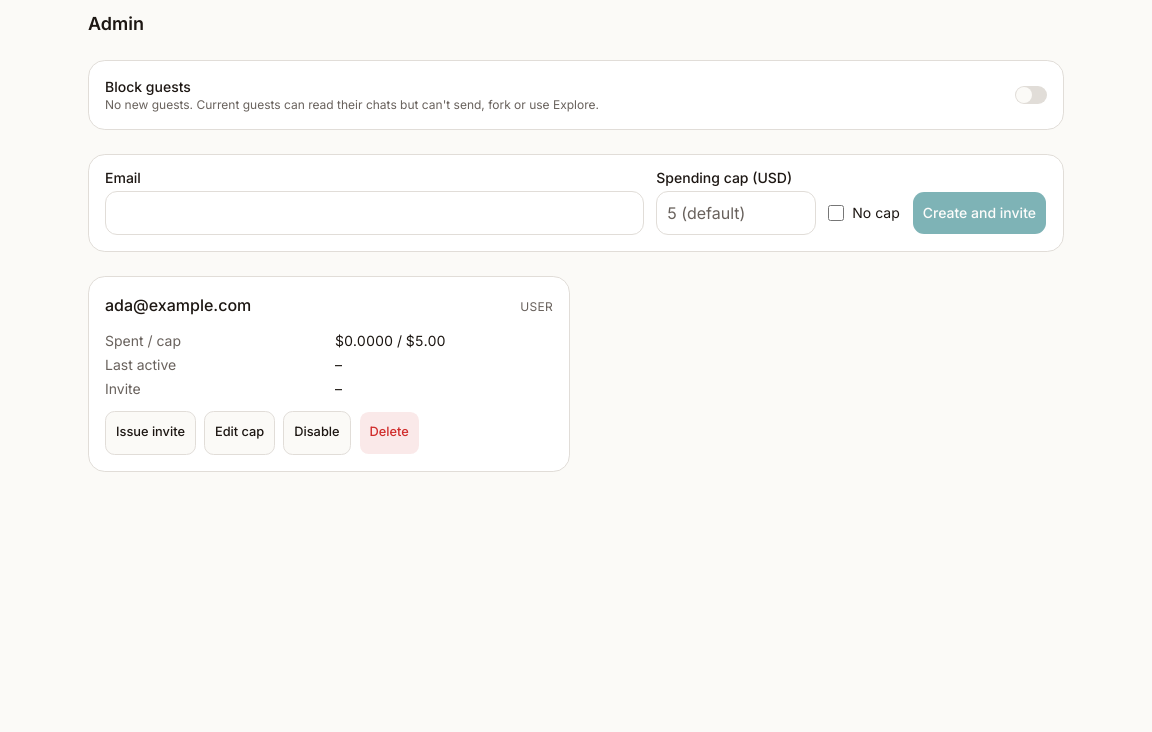
Test case: AdminConsole on a dead network › a refresh that rejects after a create keeps the invite and the list
The width and height of the screenshot is (1152, 732).
In the field labelled "Email": (375, 213) left=105, top=191, right=644, bottom=235, type "new@example.com"
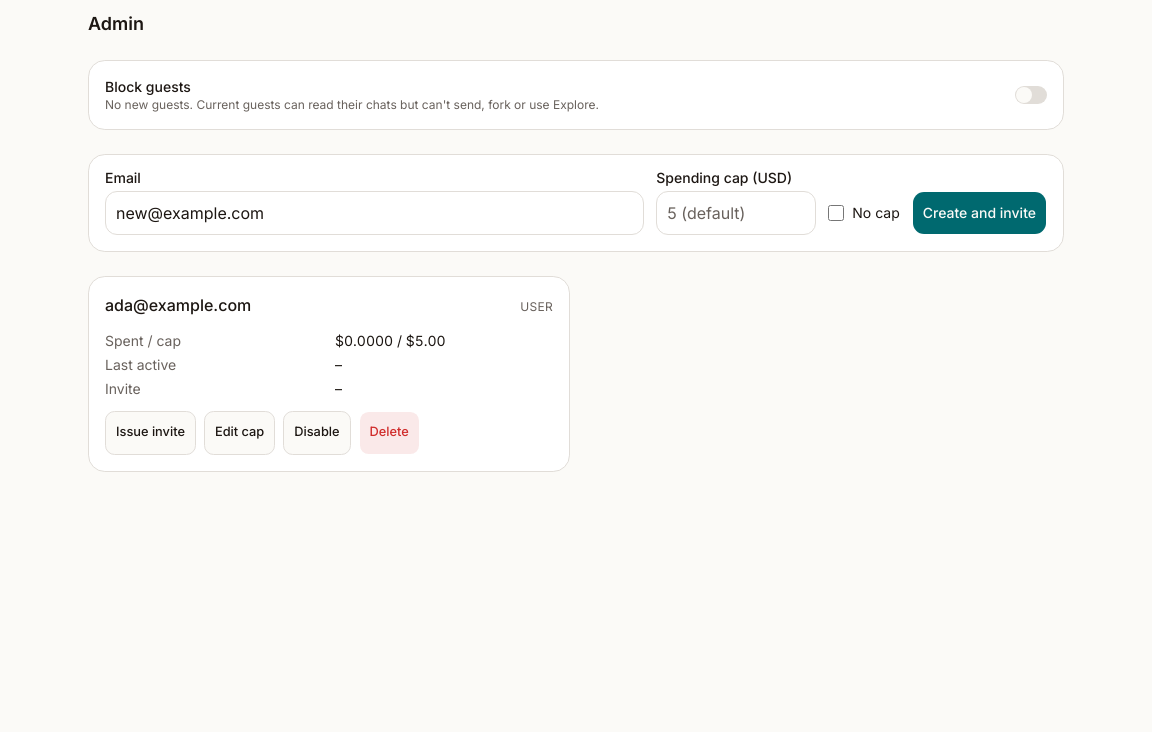
Click the button "Create and invite": (979, 213) left=912, top=191, right=1047, bottom=235
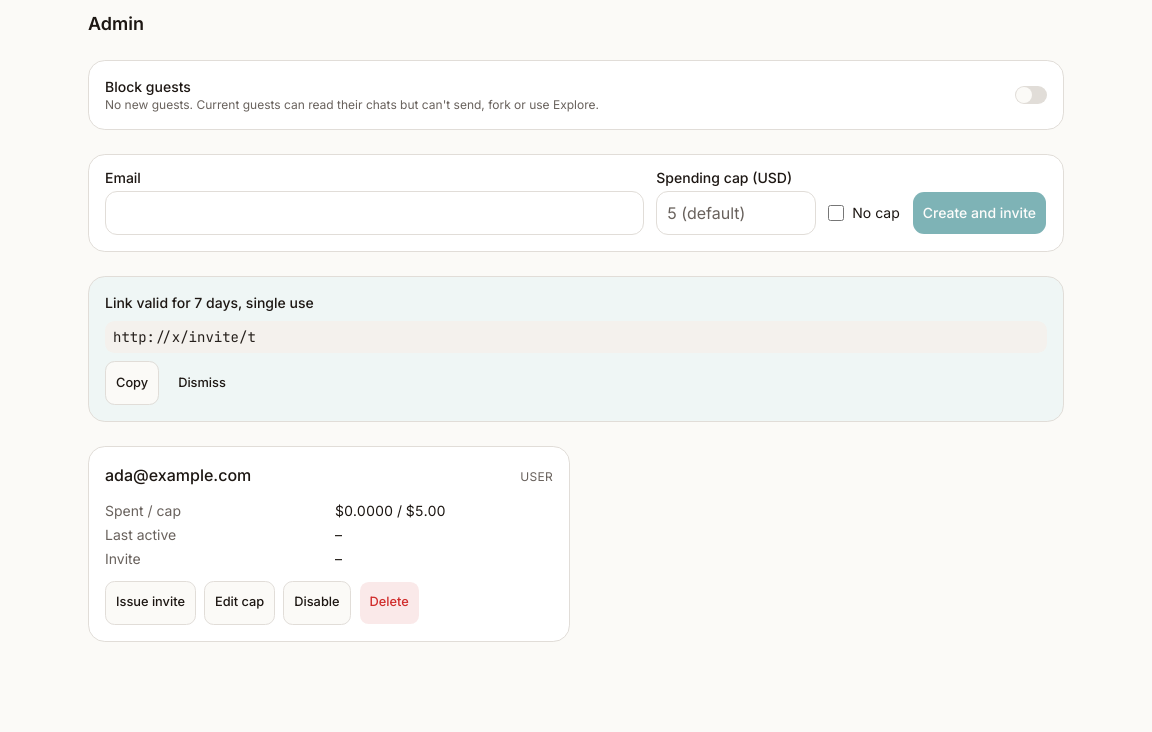
Expected: the list item with test id "user-ada@example.com" is shown, left=88, top=446, right=570, bottom=642
Expected: the text with test id "invite-url" reads "http://x/invite/t", left=113, top=328, right=256, bottom=346
